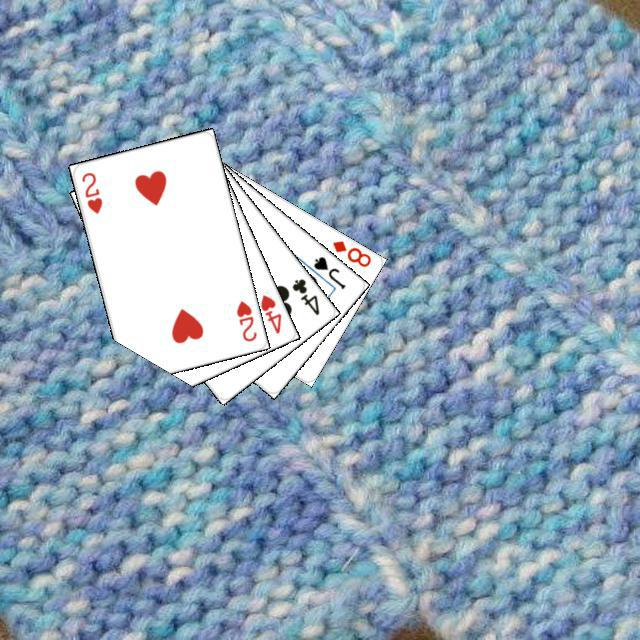2h: (77, 167, 104, 216), (231, 296, 258, 343)
4c: (287, 274, 321, 317)
4h: (255, 290, 283, 335)
8d: (327, 236, 373, 269)
Js: (308, 252, 347, 291)
